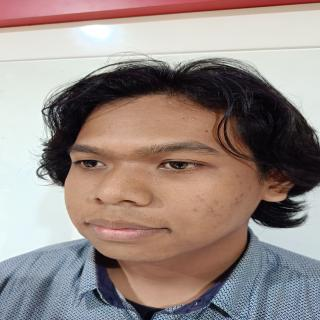Netral: (60, 80, 275, 265)
